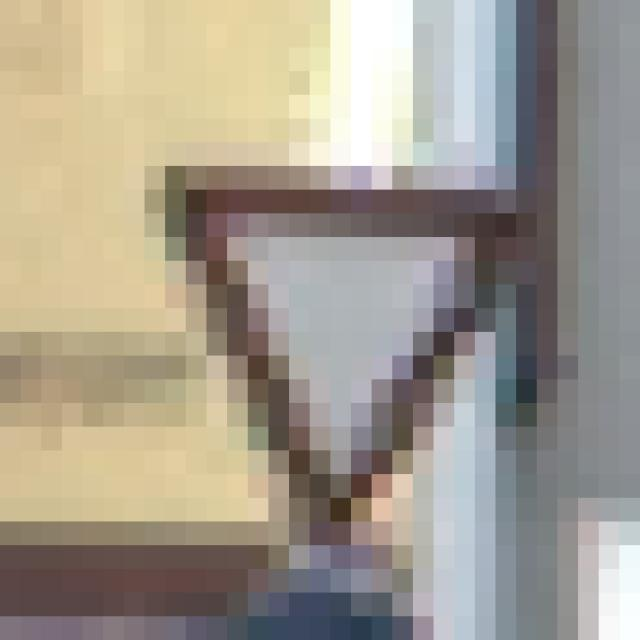Give Way: (125, 143, 538, 523)
